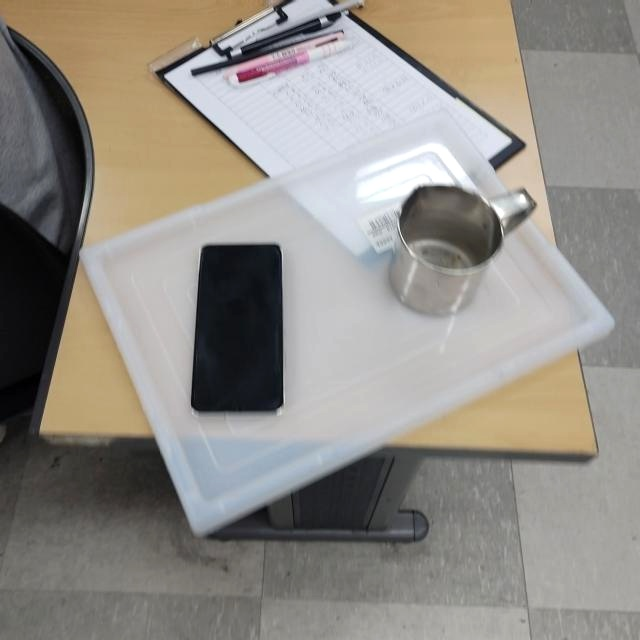cup: (386, 183, 536, 315)
phone: (191, 242, 285, 418)
